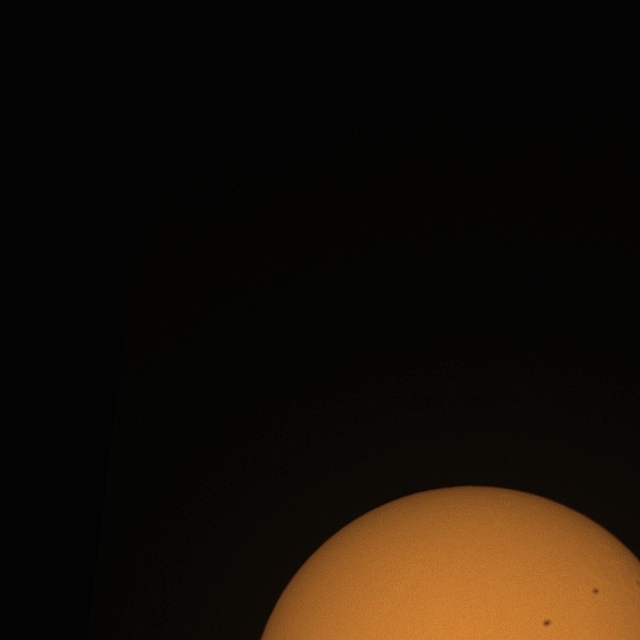sunspot: (542, 618, 552, 628), (592, 587, 600, 596)
